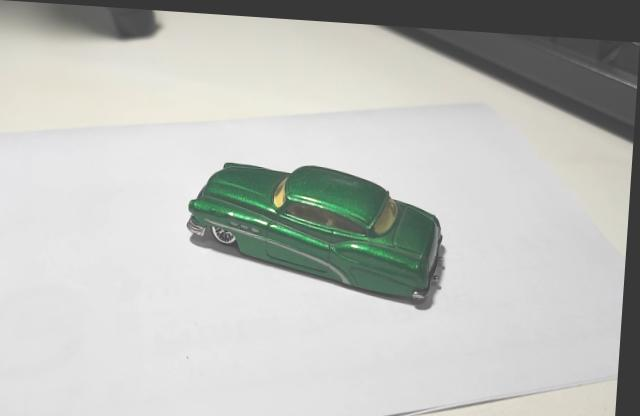06_MASERATI: (190, 160, 449, 305)
